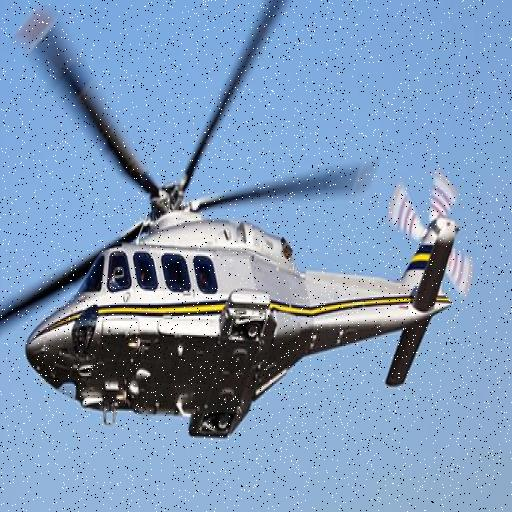helicopter: (1, 1, 476, 439)
